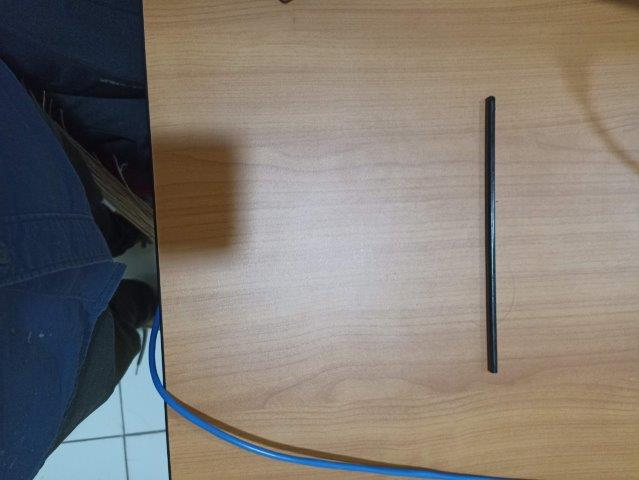sedotan: (485, 96, 498, 374)
